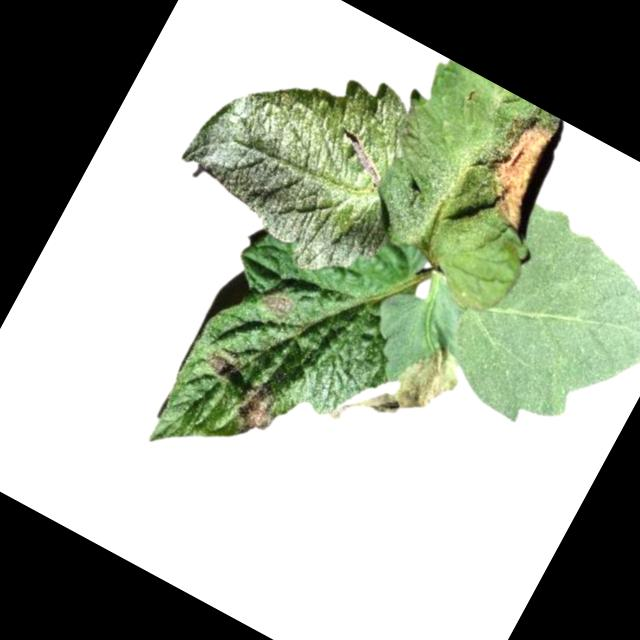Late_blight: (465, 106, 576, 239), (357, 327, 469, 446), (230, 383, 281, 442), (258, 288, 302, 326), (203, 349, 240, 382)
